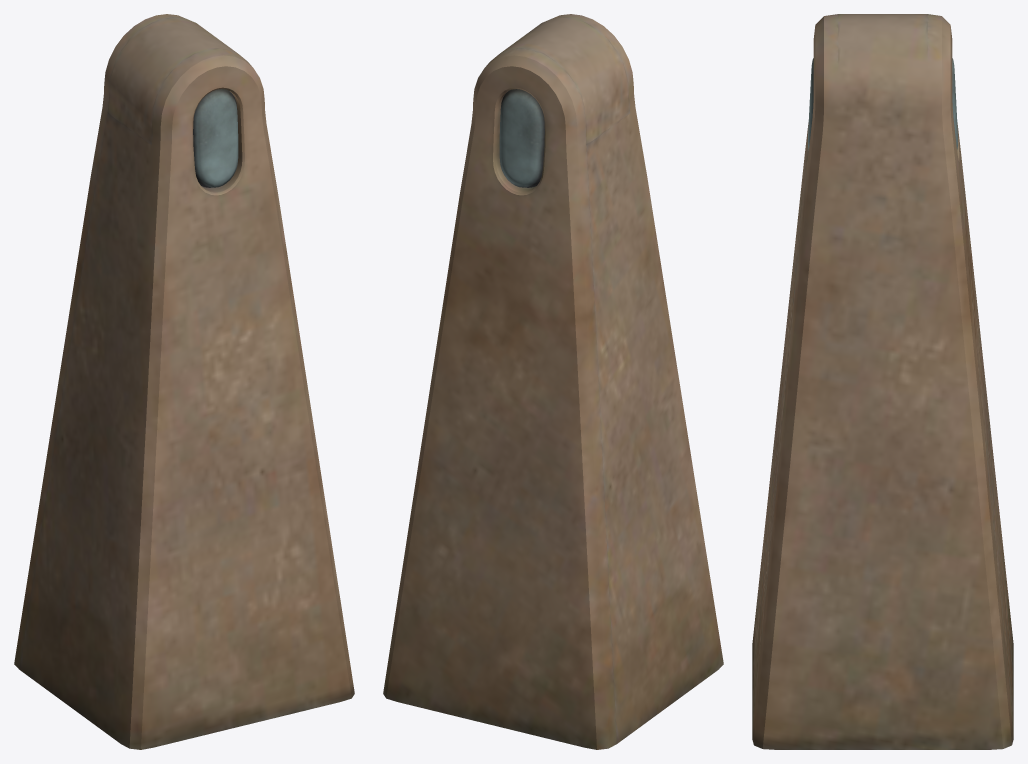
Rendered from nc_column.gltf.
The picture shows the model from 3 angles, left to right: view 1: azimuth 30°, elevation 25°; view 2: azimuth 150°, elevation 25°; view 3: azimuth 270°, elevation 25°; orthographic projection. The views are drawn at different scales.
Parts seen in each view (by area): view 1: nc_column; view 2: nc_column; view 3: nc_column.
Part boxes in pixels (left/top/right/bottom): nc_column: left=14, top=14, right=354, bottom=749; nc_column: left=383, top=14, right=723, bottom=749; nc_column: left=752, top=14, right=1013, bottom=749.
Bounding box in the file's own units: 0.9786 × 2.64 × 0.9286.
Materials: 2 (2 with a texture image).
